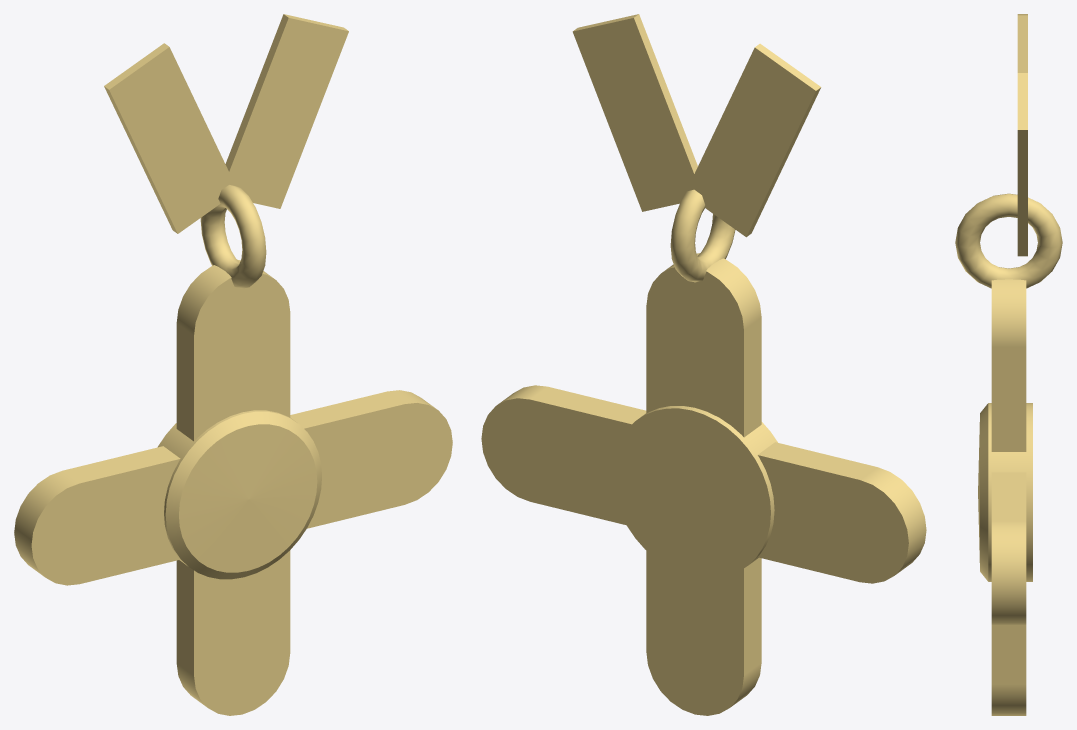
File: cross.glb
The picture shows the model from 3 angles, left to right: view 1: azimuth 30°, elevation 25°; view 2: azimuth 150°, elevation 25°; view 3: azimuth 270°, elevation 25°; orthographic projection. The views are drawn at different scales.
Parts seen in each view (by area): view 1: cross; view 2: cross; view 3: cross.
Boxes of the visible parts, box(x1,y1,x2,y2) form: cross: box(14, 14, 452, 715); cross: box(481, 14, 926, 715); cross: box(955, 14, 1062, 715).
Size of the model in its own units: 0.7 by 1.07 by 0.156.
